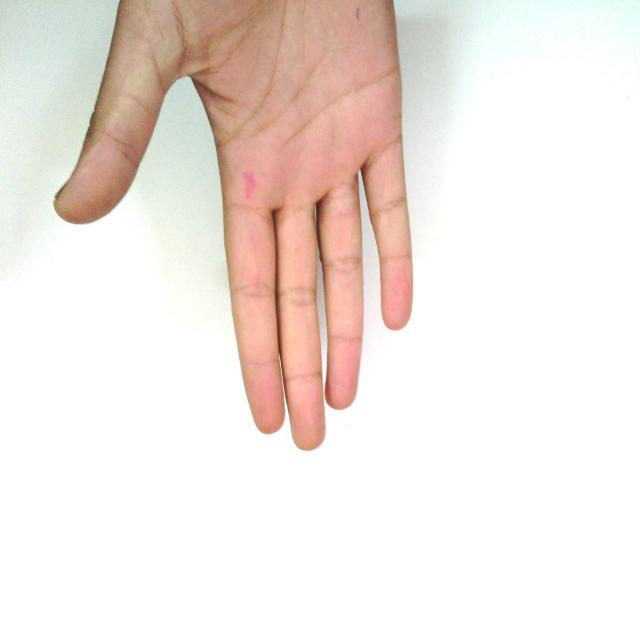others: (45, 1, 506, 470)
